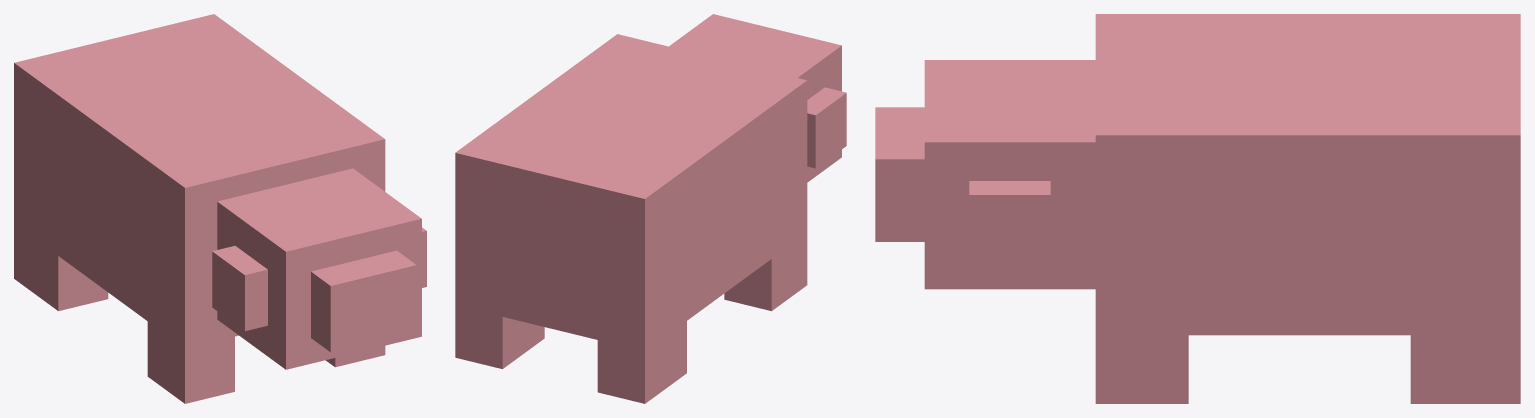
Rendered from Piggy.glb.
The picture shows the model from 3 angles, left to right: view 1: azimuth 30°, elevation 25°; view 2: azimuth 150°, elevation 25°; view 3: azimuth 270°, elevation 25°; orthographic projection. The views are drawn at different scales.
Visible parts, largest first — view 1: Piggy; view 2: Piggy; view 3: Piggy.
Part boxes in pixels (<box>): Piggy: <box>14,14,426,403</box>; Piggy: <box>455,14,846,403</box>; Piggy: <box>875,14,1520,403</box>.
Size of what is drawn, in the model's own units: 0.8795 by 0.9071 by 1.98.
